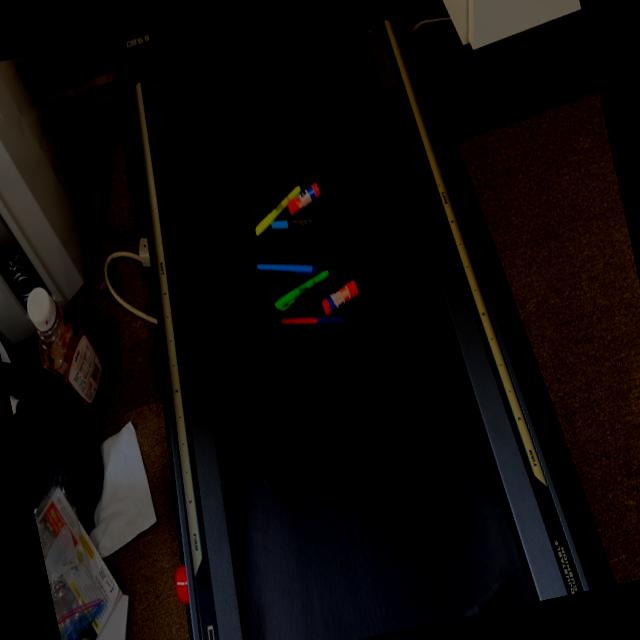Trash: (242, 175, 366, 341)
